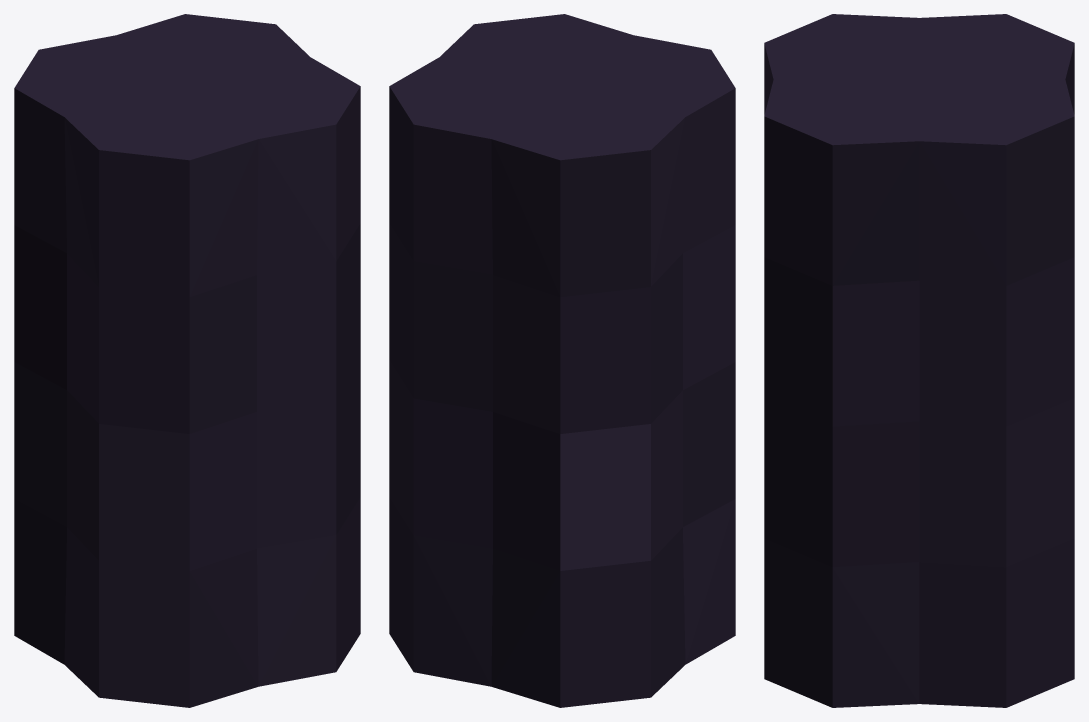
The model's file is Section_3.glb.
3 renders of one model, left to right at view 1: azimuth 30°, elevation 25°; view 2: azimuth 150°, elevation 25°; view 3: azimuth 270°, elevation 25°, orthographic. The views are drawn at different scales.
Parts seen in each view (by area): view 1: Section; view 2: Section; view 3: Section.
Boxes of the visible parts, left/top/right/bottom form: Section: left=14, top=14, right=360, bottom=707; Section: left=389, top=14, right=735, bottom=707; Section: left=764, top=14, right=1074, bottom=707.
Size of the model in its own units: 2 by 4 by 2.
